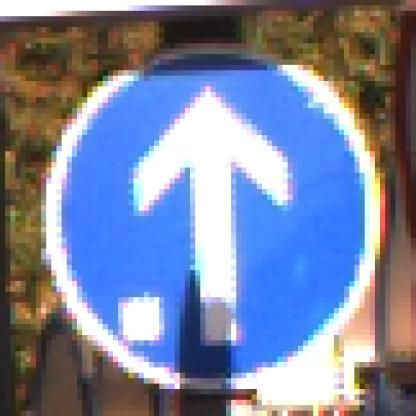AheadOnly: (42, 39, 381, 385)
